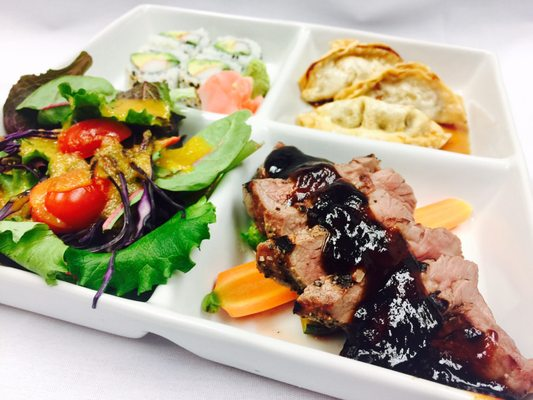taco: (210, 259, 299, 319)
